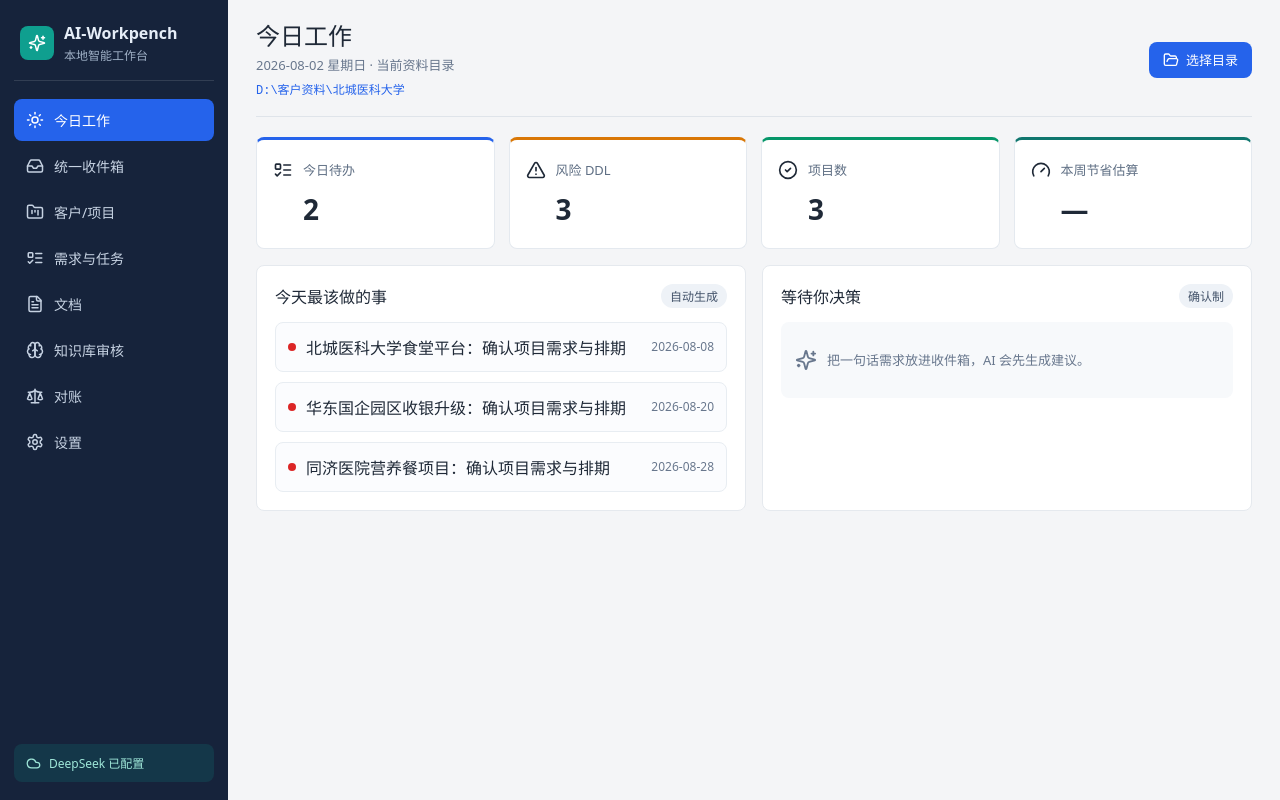
Test: App › shows the selected directory immediately in browser preview mode
Click the button "选择目录".
click(1200, 60)  # box [1149,42,1252,78]
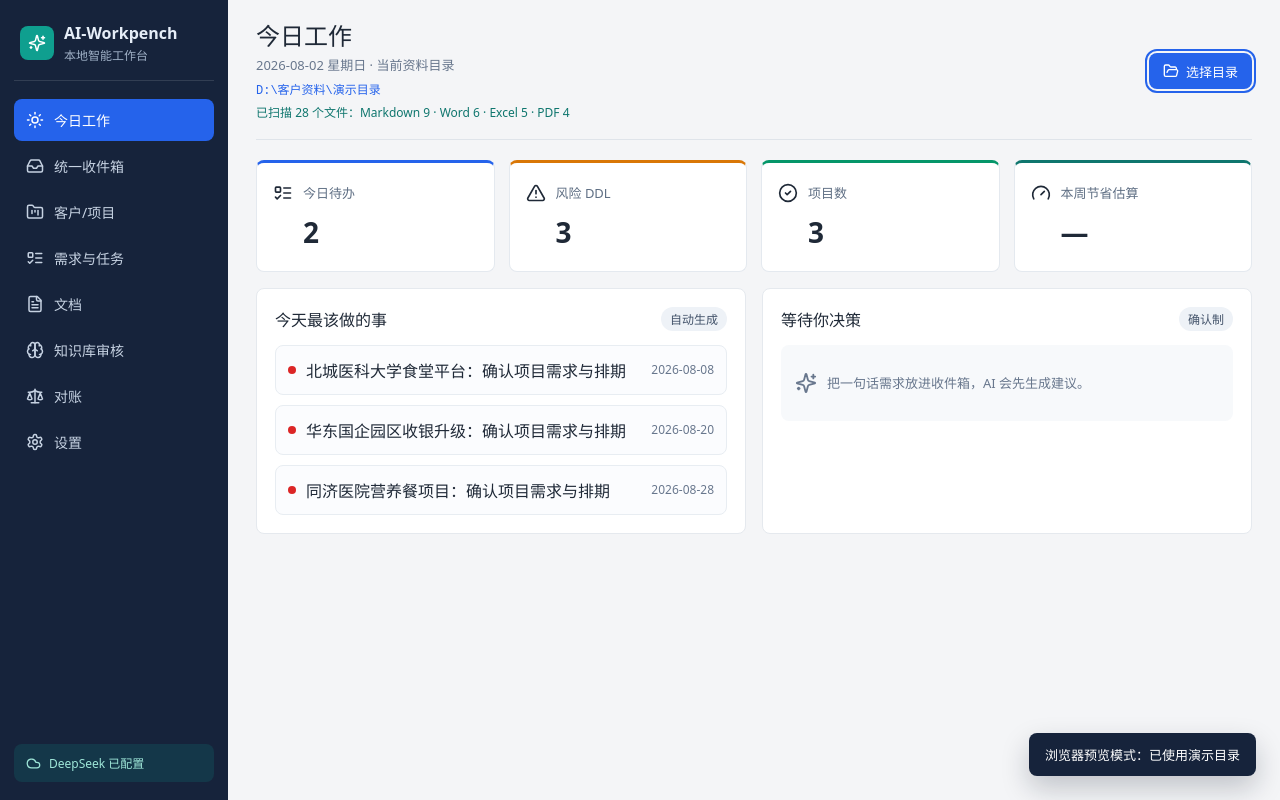
Check: the text "D:\\客户资料\\演示目录" is shown, box [256,84,381,98]
Check: the text "已扫描 28 个文件：Markdown 9 · Word 6 · Excel 5 · PDF 4" is shown, box [256,103,570,121]
